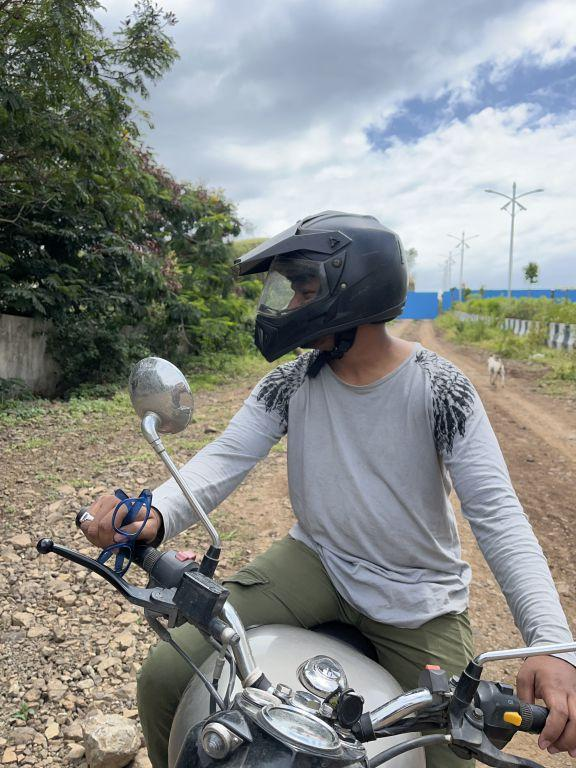helmet: (222, 199, 417, 363)
